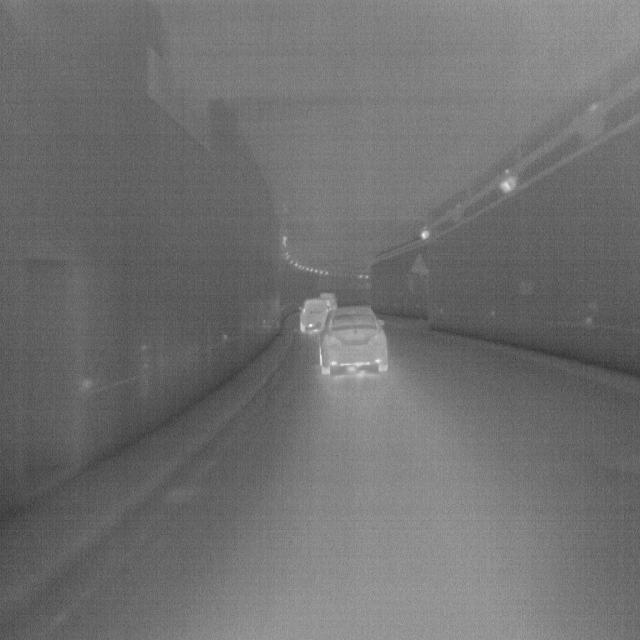Vehicle: (318, 304, 390, 376), (300, 298, 330, 333)
